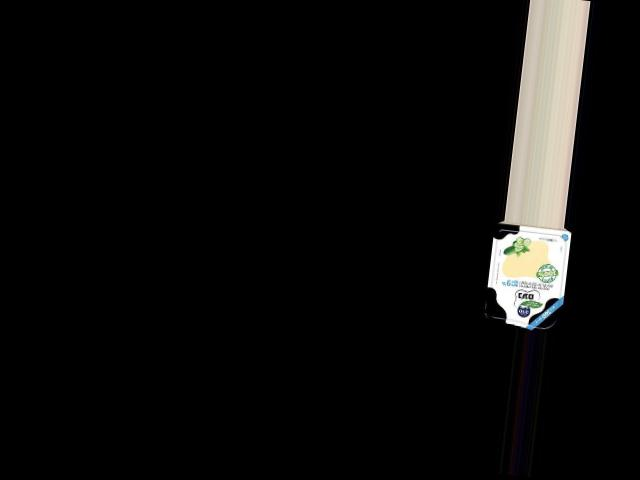cheese: (479, 218, 576, 332)
